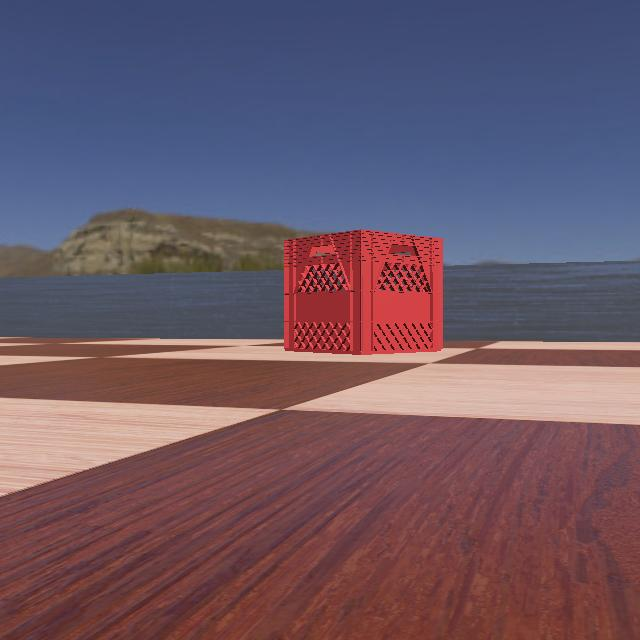plastic-crate: (278, 228, 456, 354)
